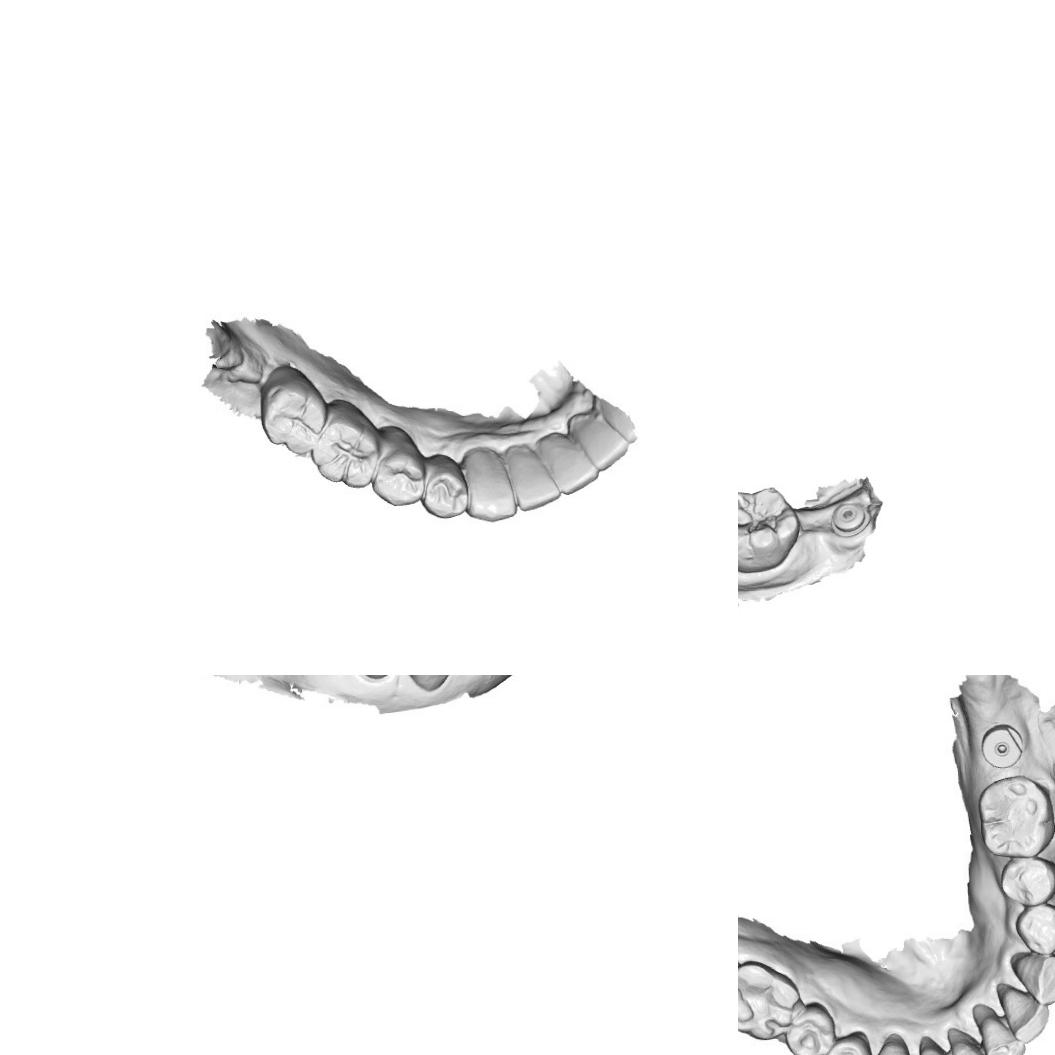canine: (461, 444, 516, 522), (1008, 947, 1055, 1004), (868, 1030, 919, 1055), (401, 675, 460, 695)
implant: (974, 712, 1030, 777), (829, 497, 868, 538)
incisor: (505, 438, 558, 508), (542, 428, 592, 495), (576, 409, 626, 470), (1000, 982, 1048, 1040), (975, 1004, 1017, 1055), (952, 1027, 991, 1055), (917, 1041, 958, 1055)
molar: (309, 402, 379, 493), (976, 775, 1051, 855), (738, 484, 801, 575), (738, 959, 807, 1042), (258, 366, 322, 453)
premolar: (372, 428, 424, 508), (424, 454, 466, 519), (1003, 856, 1055, 900), (1013, 903, 1055, 954), (788, 1007, 831, 1055), (827, 1033, 869, 1055)
